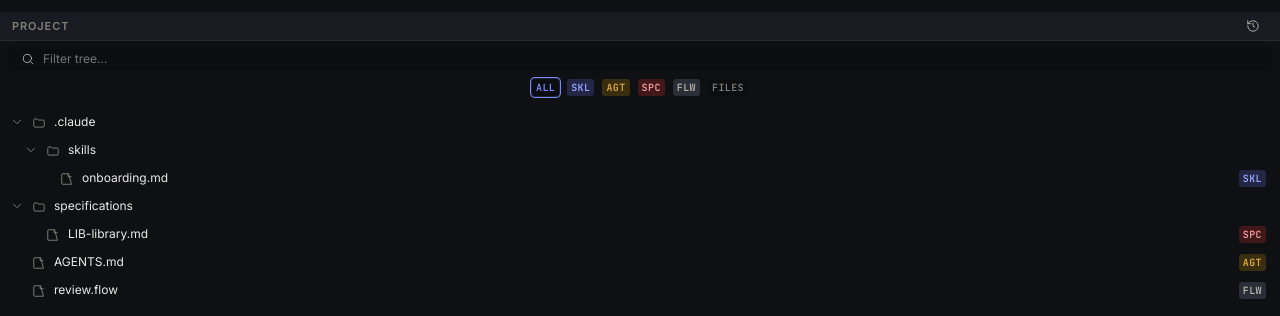
Scenario: Library filesystem tree › filters by artifact type, hiding non-matching nodes
The width and height of the screenshot is (1280, 316).
Check: the text "onboarding.md" is shown, box [82,170,168,185]
Click the radio button labelled "SKL" at (581, 88), box [565,77,596,98]
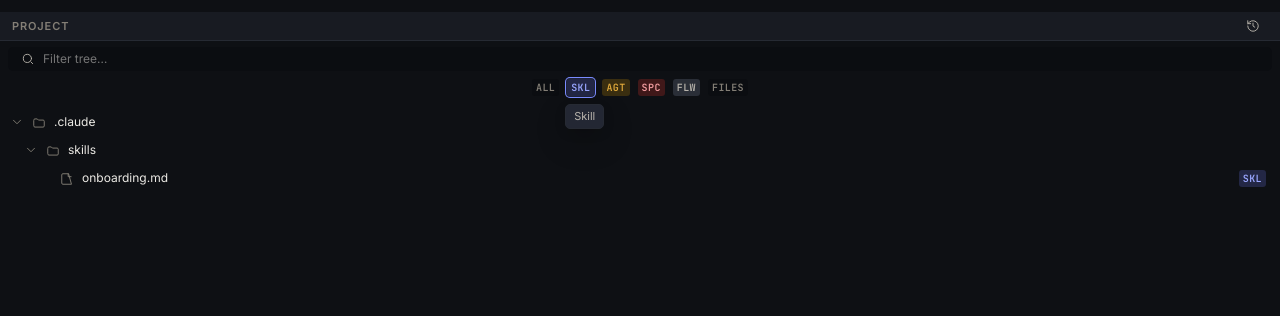
Check: the text "onboarding.md" is shown, box [82,170,168,185]
Check: the text "AGENTS.md" is gone
